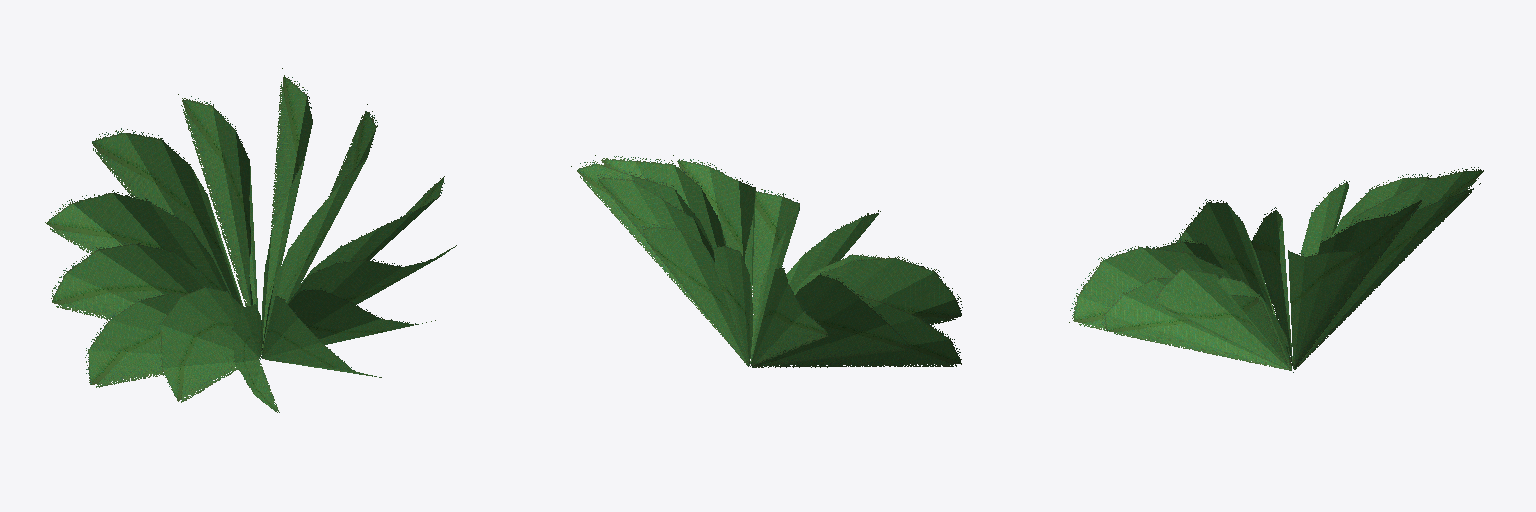
3 views of the same model, side by side, from view 1: azimuth 30°, elevation 25°; view 2: azimuth 150°, elevation 25°; view 3: azimuth 270°, elevation 25° (orthographic).
Bounding box in the file's own units: 6.45 × 3.7 × 6.41.
Materials: 1 (1 with a texture image).